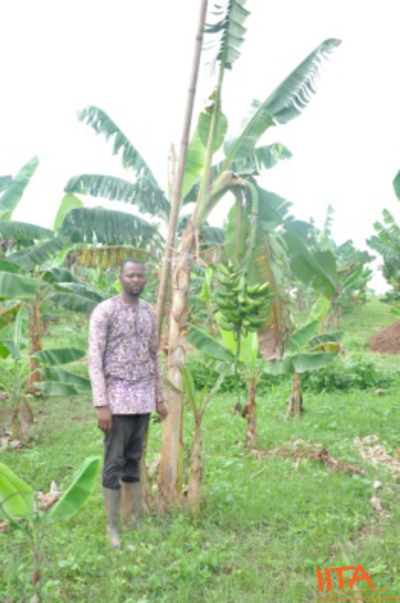bananaHand: (213, 264, 271, 335)
